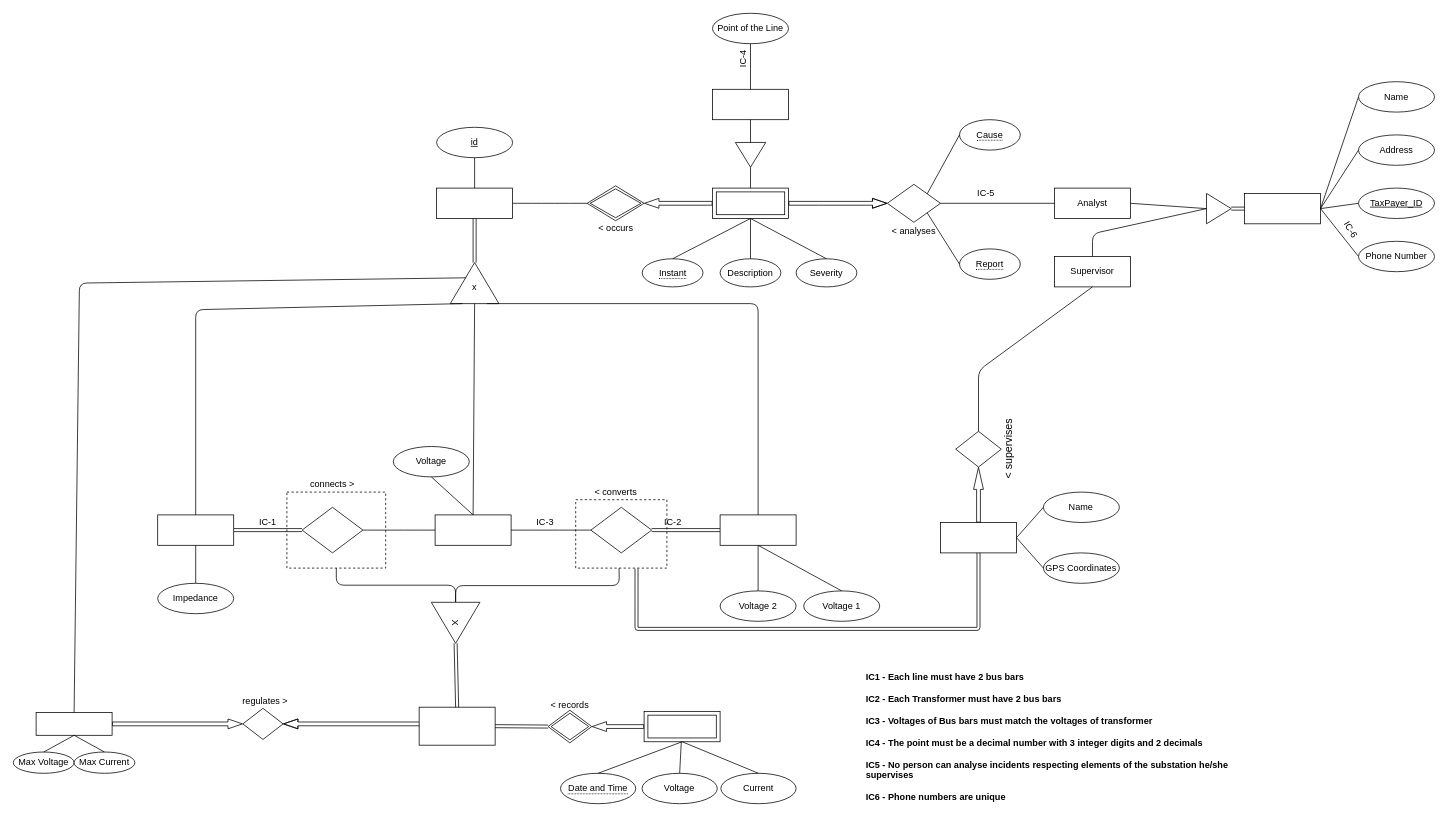
Some shapes in this 1448 by 838 pixel diagram are drawn without their labels. The centre of each missing label's shape, as x and y in pixels:
"Breaker" goes at (x=73, y=723).
"Bus Bar" goes at (x=472, y=529).
"Connection" goes at (x=456, y=725).
"History" goes at (x=681, y=726).
"Incident" goes at (x=750, y=202).
"Incident In Power Line" goes at (x=750, y=104).
"Person" goes at (x=1282, y=208).
"Power Grid Element" goes at (x=474, y=202).
"Power Line" goes at (x=195, y=529).
"Substation" goes at (x=978, y=537).
"Transformer" goes at (x=757, y=529).
